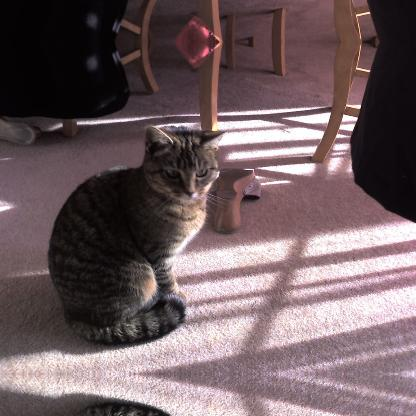Cat: (43, 122, 230, 344)
